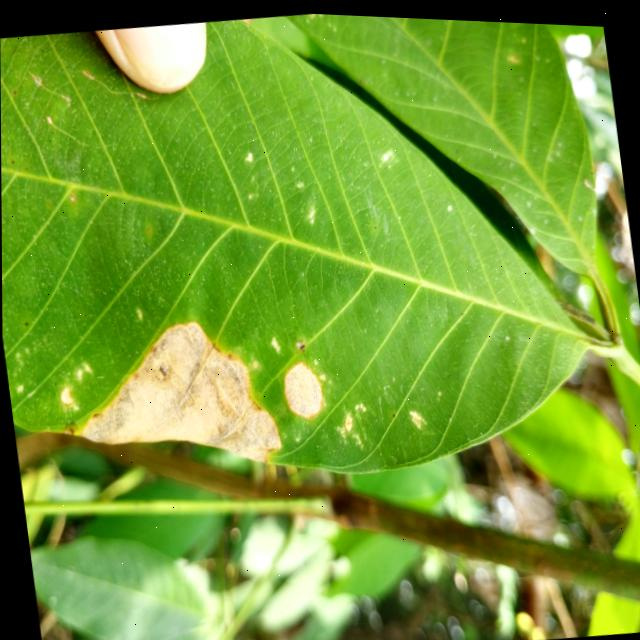Leaf-Blight: (66, 305, 283, 482), (280, 356, 325, 417), (59, 385, 72, 404)
